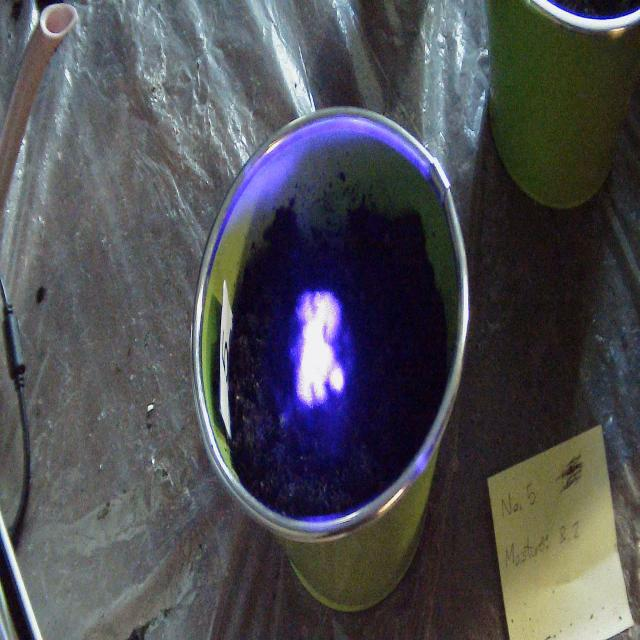soil-moisture-8.2: (293, 289, 345, 408)
